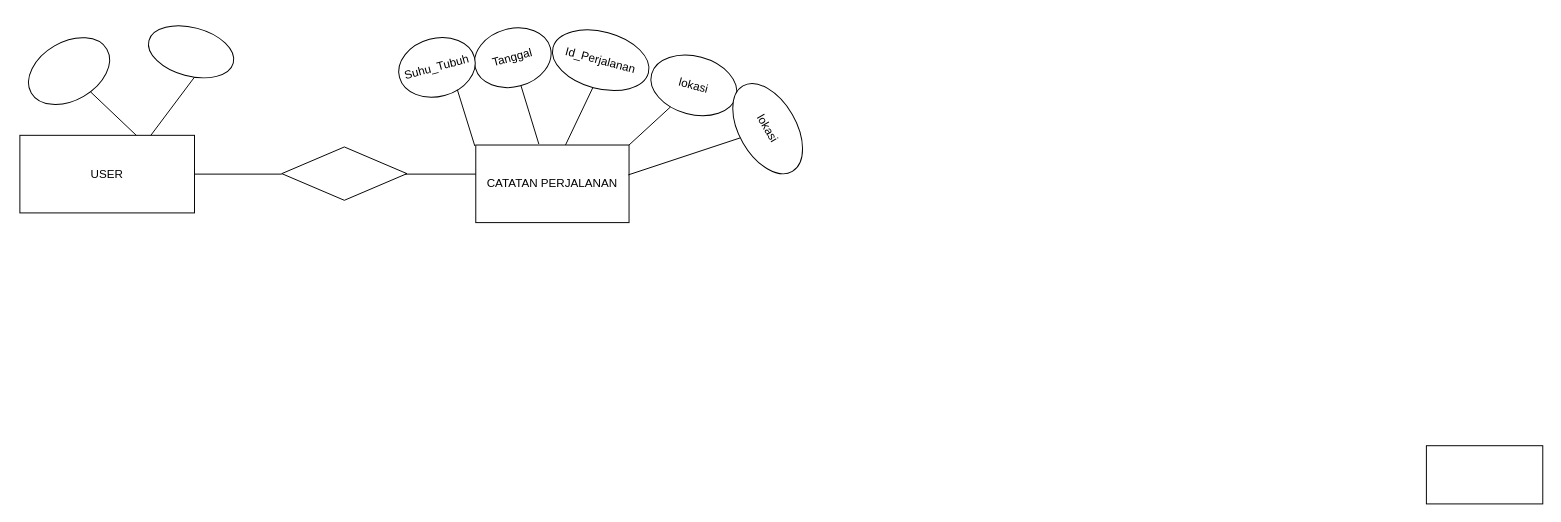
The diagram is 1561 pixels wide and 522 high, and some of its shapes have lost their labels. Each missing label, with the centre of its shape:
"MENCATAT" belongs at pixel 344 173.
"NIK" belongs at pixel 191 51.
"USSERNAME" belongs at pixel 69 70.
